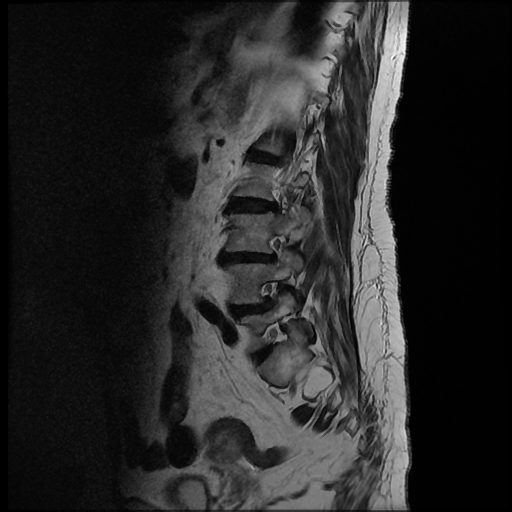LFS0: (253, 228, 294, 271), (250, 276, 287, 317)
